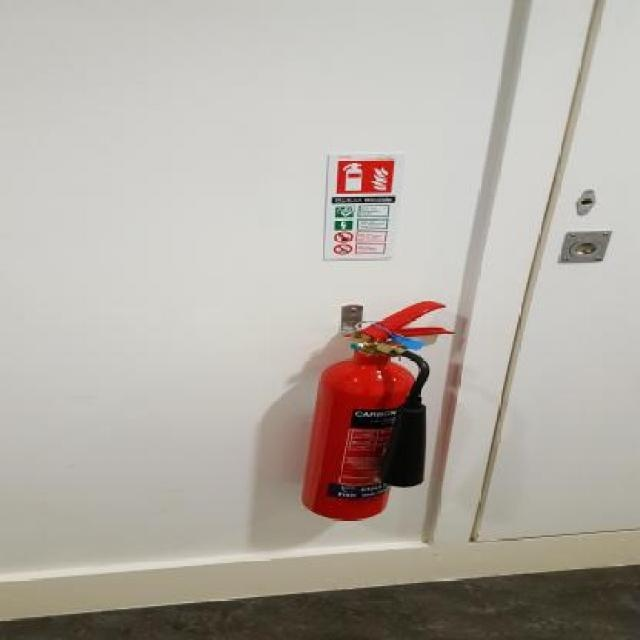fire extinguisher: (300, 298, 462, 522)
